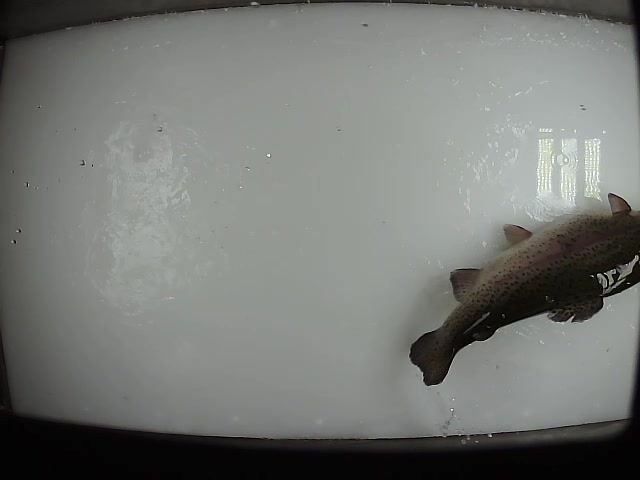fish: (407, 191, 640, 388)
